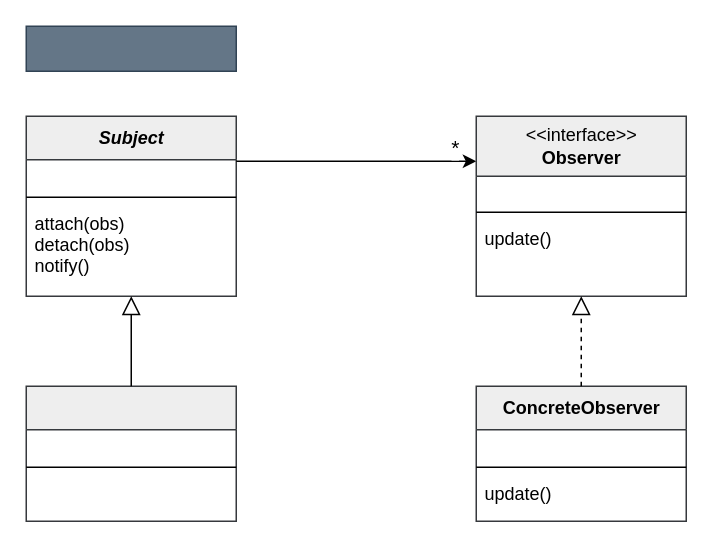
This 713x552 diagram has some shape labels left out. Each missing label, with the centre of its shape:
ConcreteSubject: the point at 130,453
Observer Pattern: the point at 130,48
